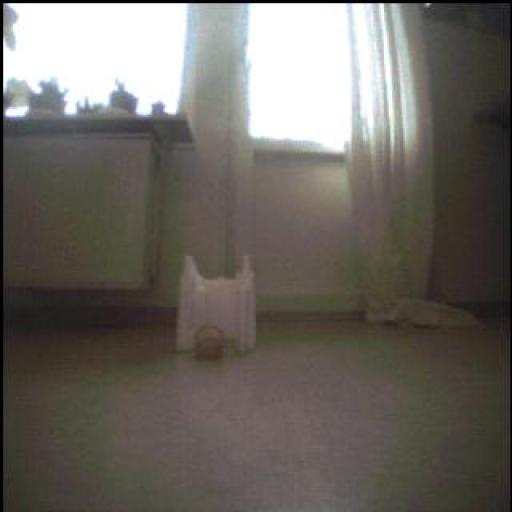Basket: (195, 326, 227, 361)
